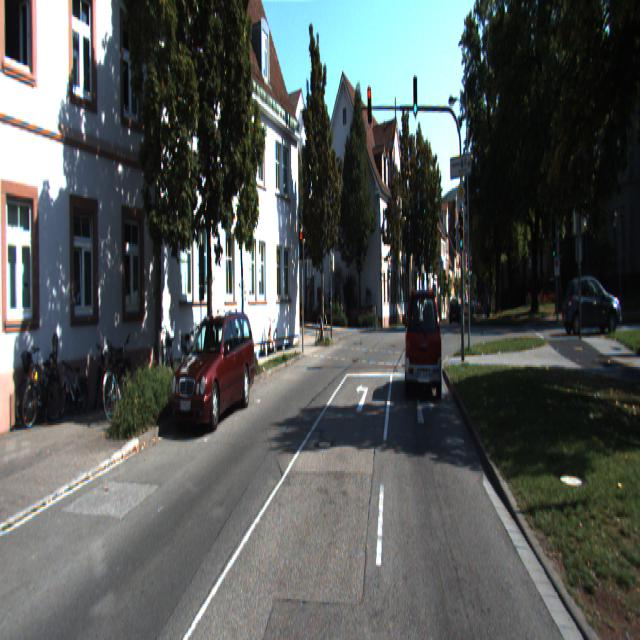Car: (170, 312, 257, 433), (404, 289, 443, 400), (562, 272, 622, 334)
